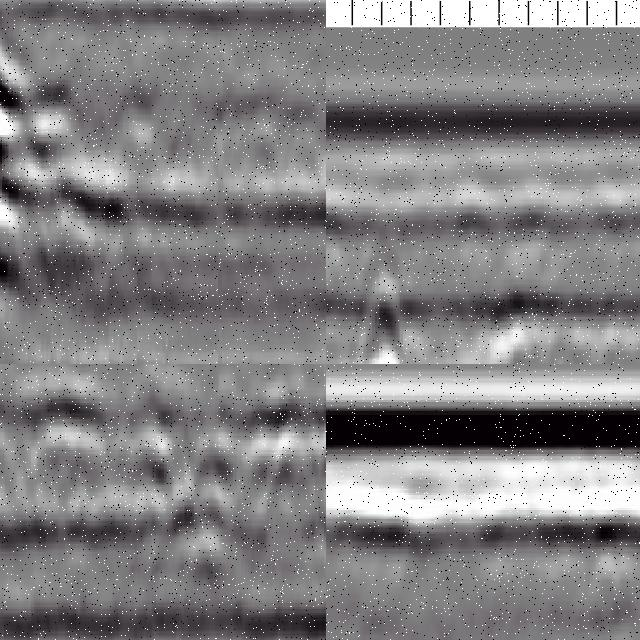loose: (24, 379, 327, 524), (327, 239, 587, 365), (1, 34, 142, 247)
